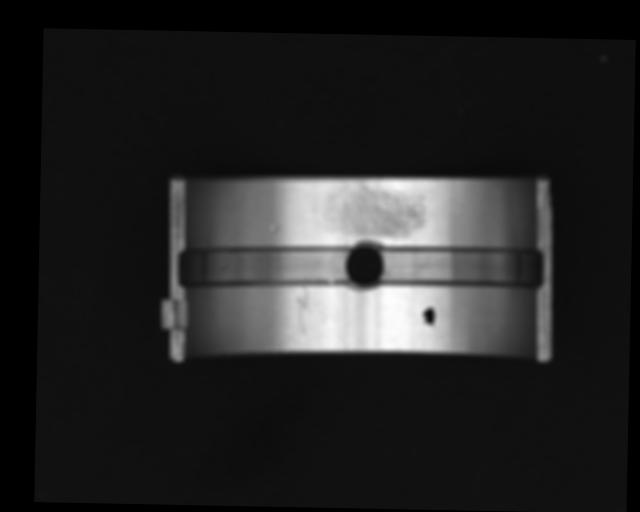blot: (420, 306, 437, 331)
bruise: (269, 223, 281, 233)
gap: (180, 241, 353, 292), (377, 245, 544, 289)
hole: (343, 240, 384, 292)
nick: (294, 285, 311, 338)
scratch: (320, 180, 428, 238)
